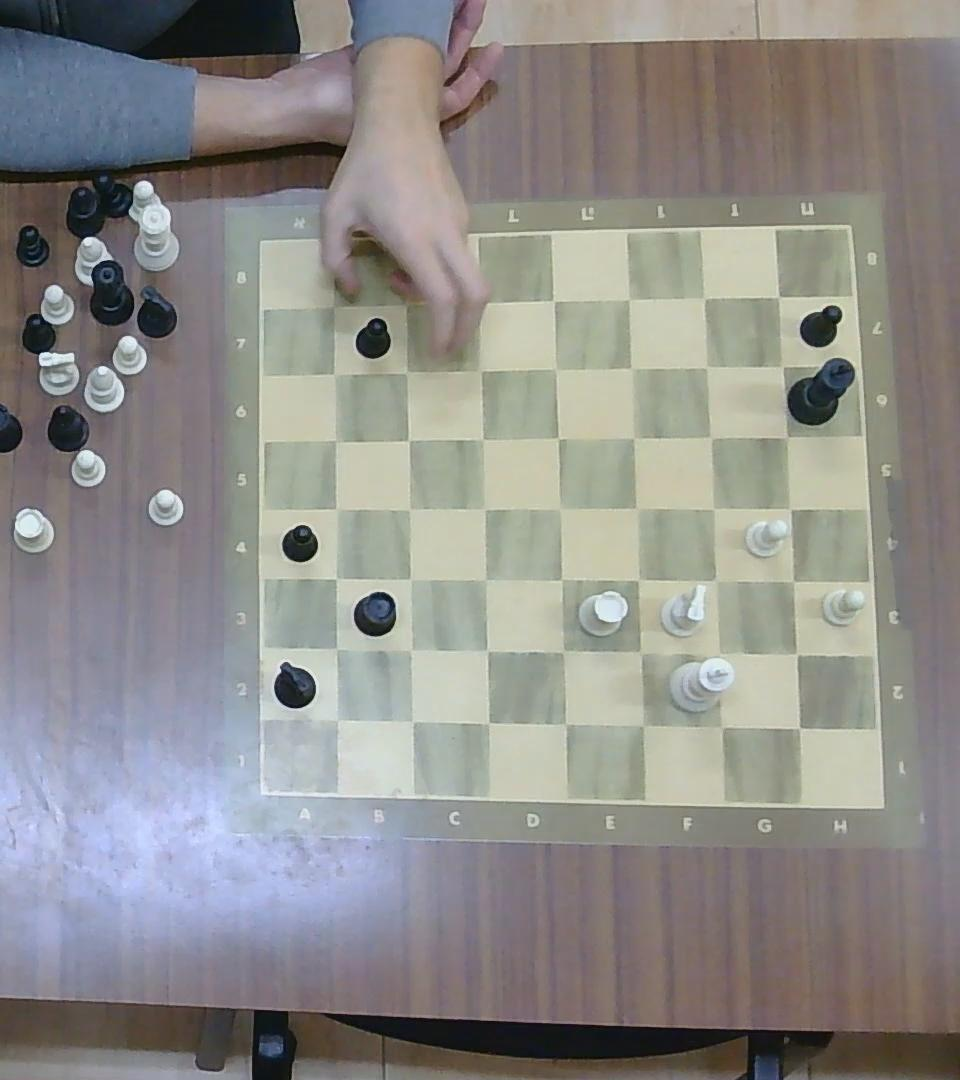xcorner: (625, 707, 660, 740), (701, 637, 735, 669), (548, 706, 580, 738), (621, 562, 653, 594), (705, 710, 736, 743), (625, 635, 656, 667), (471, 706, 502, 738), (547, 635, 578, 667), (783, 711, 814, 743), (781, 638, 812, 670), (320, 703, 352, 734), (396, 705, 427, 735), (698, 492, 728, 523), (699, 565, 730, 595), (547, 563, 577, 594), (622, 492, 652, 523), (320, 634, 351, 664), (471, 636, 501, 666), (460, 286, 489, 317), (319, 290, 348, 320), (777, 567, 807, 596), (615, 284, 645, 313), (539, 285, 568, 315), (545, 493, 574, 522), (470, 564, 499, 593), (470, 493, 499, 522), (776, 493, 805, 522), (391, 289, 420, 318), (396, 635, 424, 664), (621, 422, 649, 451), (769, 351, 797, 380), (619, 352, 647, 380), (545, 423, 573, 450), (691, 283, 719, 310), (693, 352, 721, 379), (465, 354, 493, 381), (542, 354, 570, 381), (698, 423, 725, 450), (468, 425, 495, 452), (772, 422, 800, 448), (324, 494, 350, 521), (395, 426, 423, 451), (323, 565, 349, 591), (396, 566, 423, 591), (323, 427, 348, 453), (393, 358, 419, 383), (396, 495, 422, 520), (322, 361, 346, 384), (767, 285, 791, 308)
